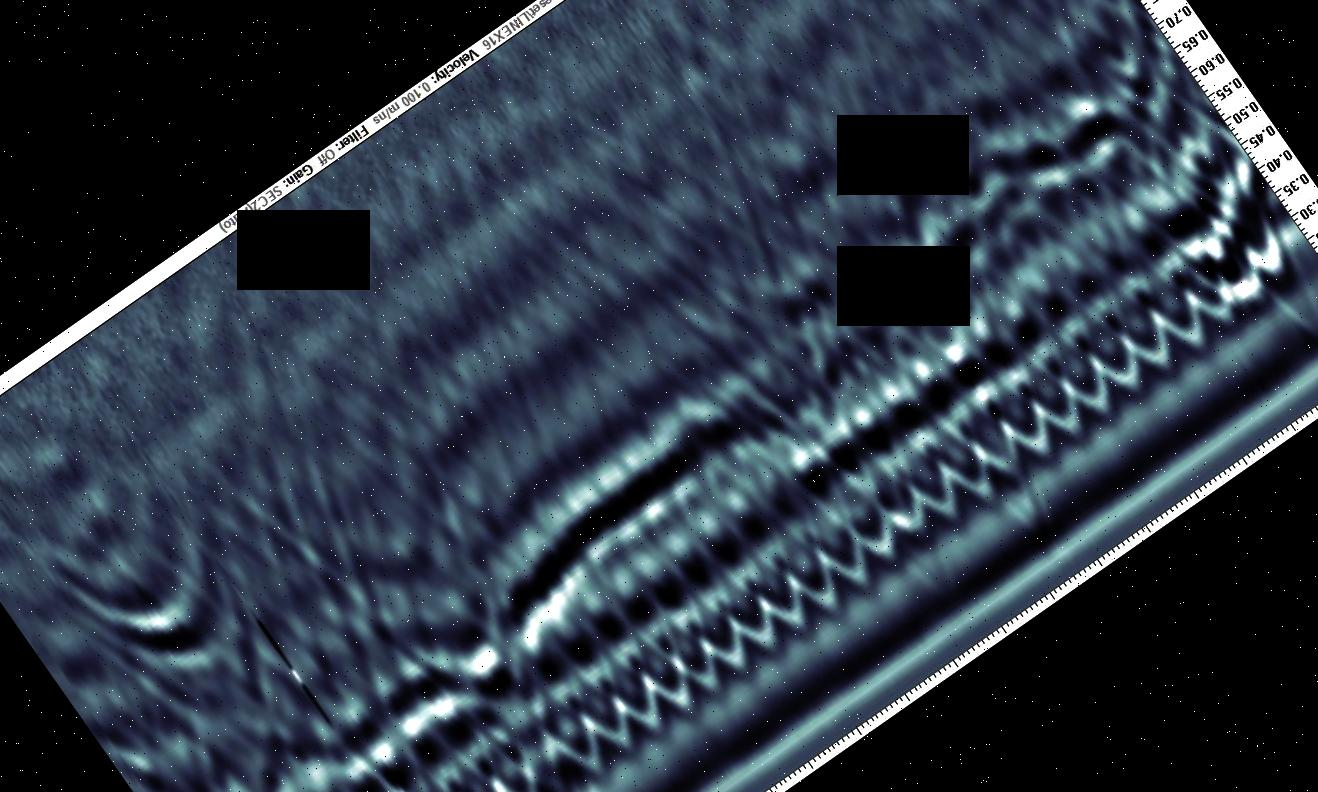Hyperbola: (1155, 187, 1288, 331), (988, 327, 1110, 470), (734, 541, 855, 676), (964, 360, 1084, 494), (1198, 178, 1313, 312), (1064, 301, 1178, 429), (1094, 282, 1208, 408), (518, 680, 636, 792), (618, 628, 726, 748), (814, 472, 919, 592), (1032, 323, 1138, 441), (758, 517, 862, 631), (1126, 258, 1230, 372), (588, 652, 692, 764), (841, 447, 940, 563), (550, 663, 653, 774), (704, 572, 806, 684), (948, 393, 1046, 508), (917, 420, 1017, 529), (670, 588, 770, 696), (643, 598, 740, 707), (882, 441, 978, 550), (1164, 243, 1260, 352), (799, 506, 890, 608), (467, 725, 568, 792), (437, 755, 535, 792), (361, 766, 473, 792)
